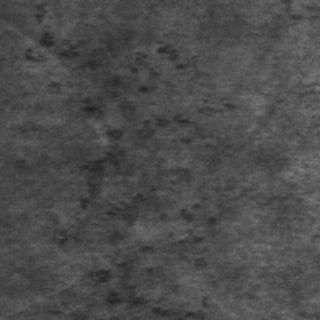rolled pit: (59, 112, 209, 314), (24, 16, 198, 184)
